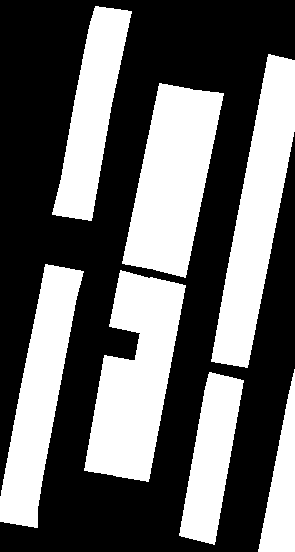parkingspot: (211, 54, 295, 367), (0, 264, 83, 527), (52, 6, 131, 220), (113, 277, 185, 481), (153, 89, 223, 277), (122, 83, 192, 269), (179, 372, 243, 544), (258, 366, 295, 551), (84, 355, 137, 475), (109, 270, 153, 333)
